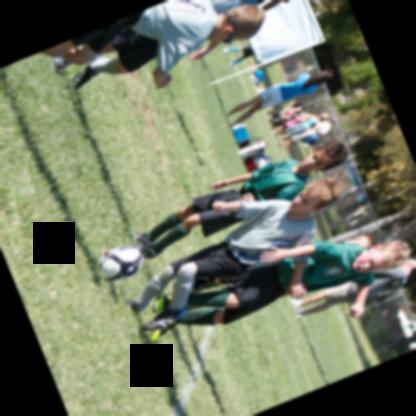backpack: (241, 147, 265, 160)
handbag: (230, 124, 253, 143)
suitcase: (244, 152, 272, 173)
